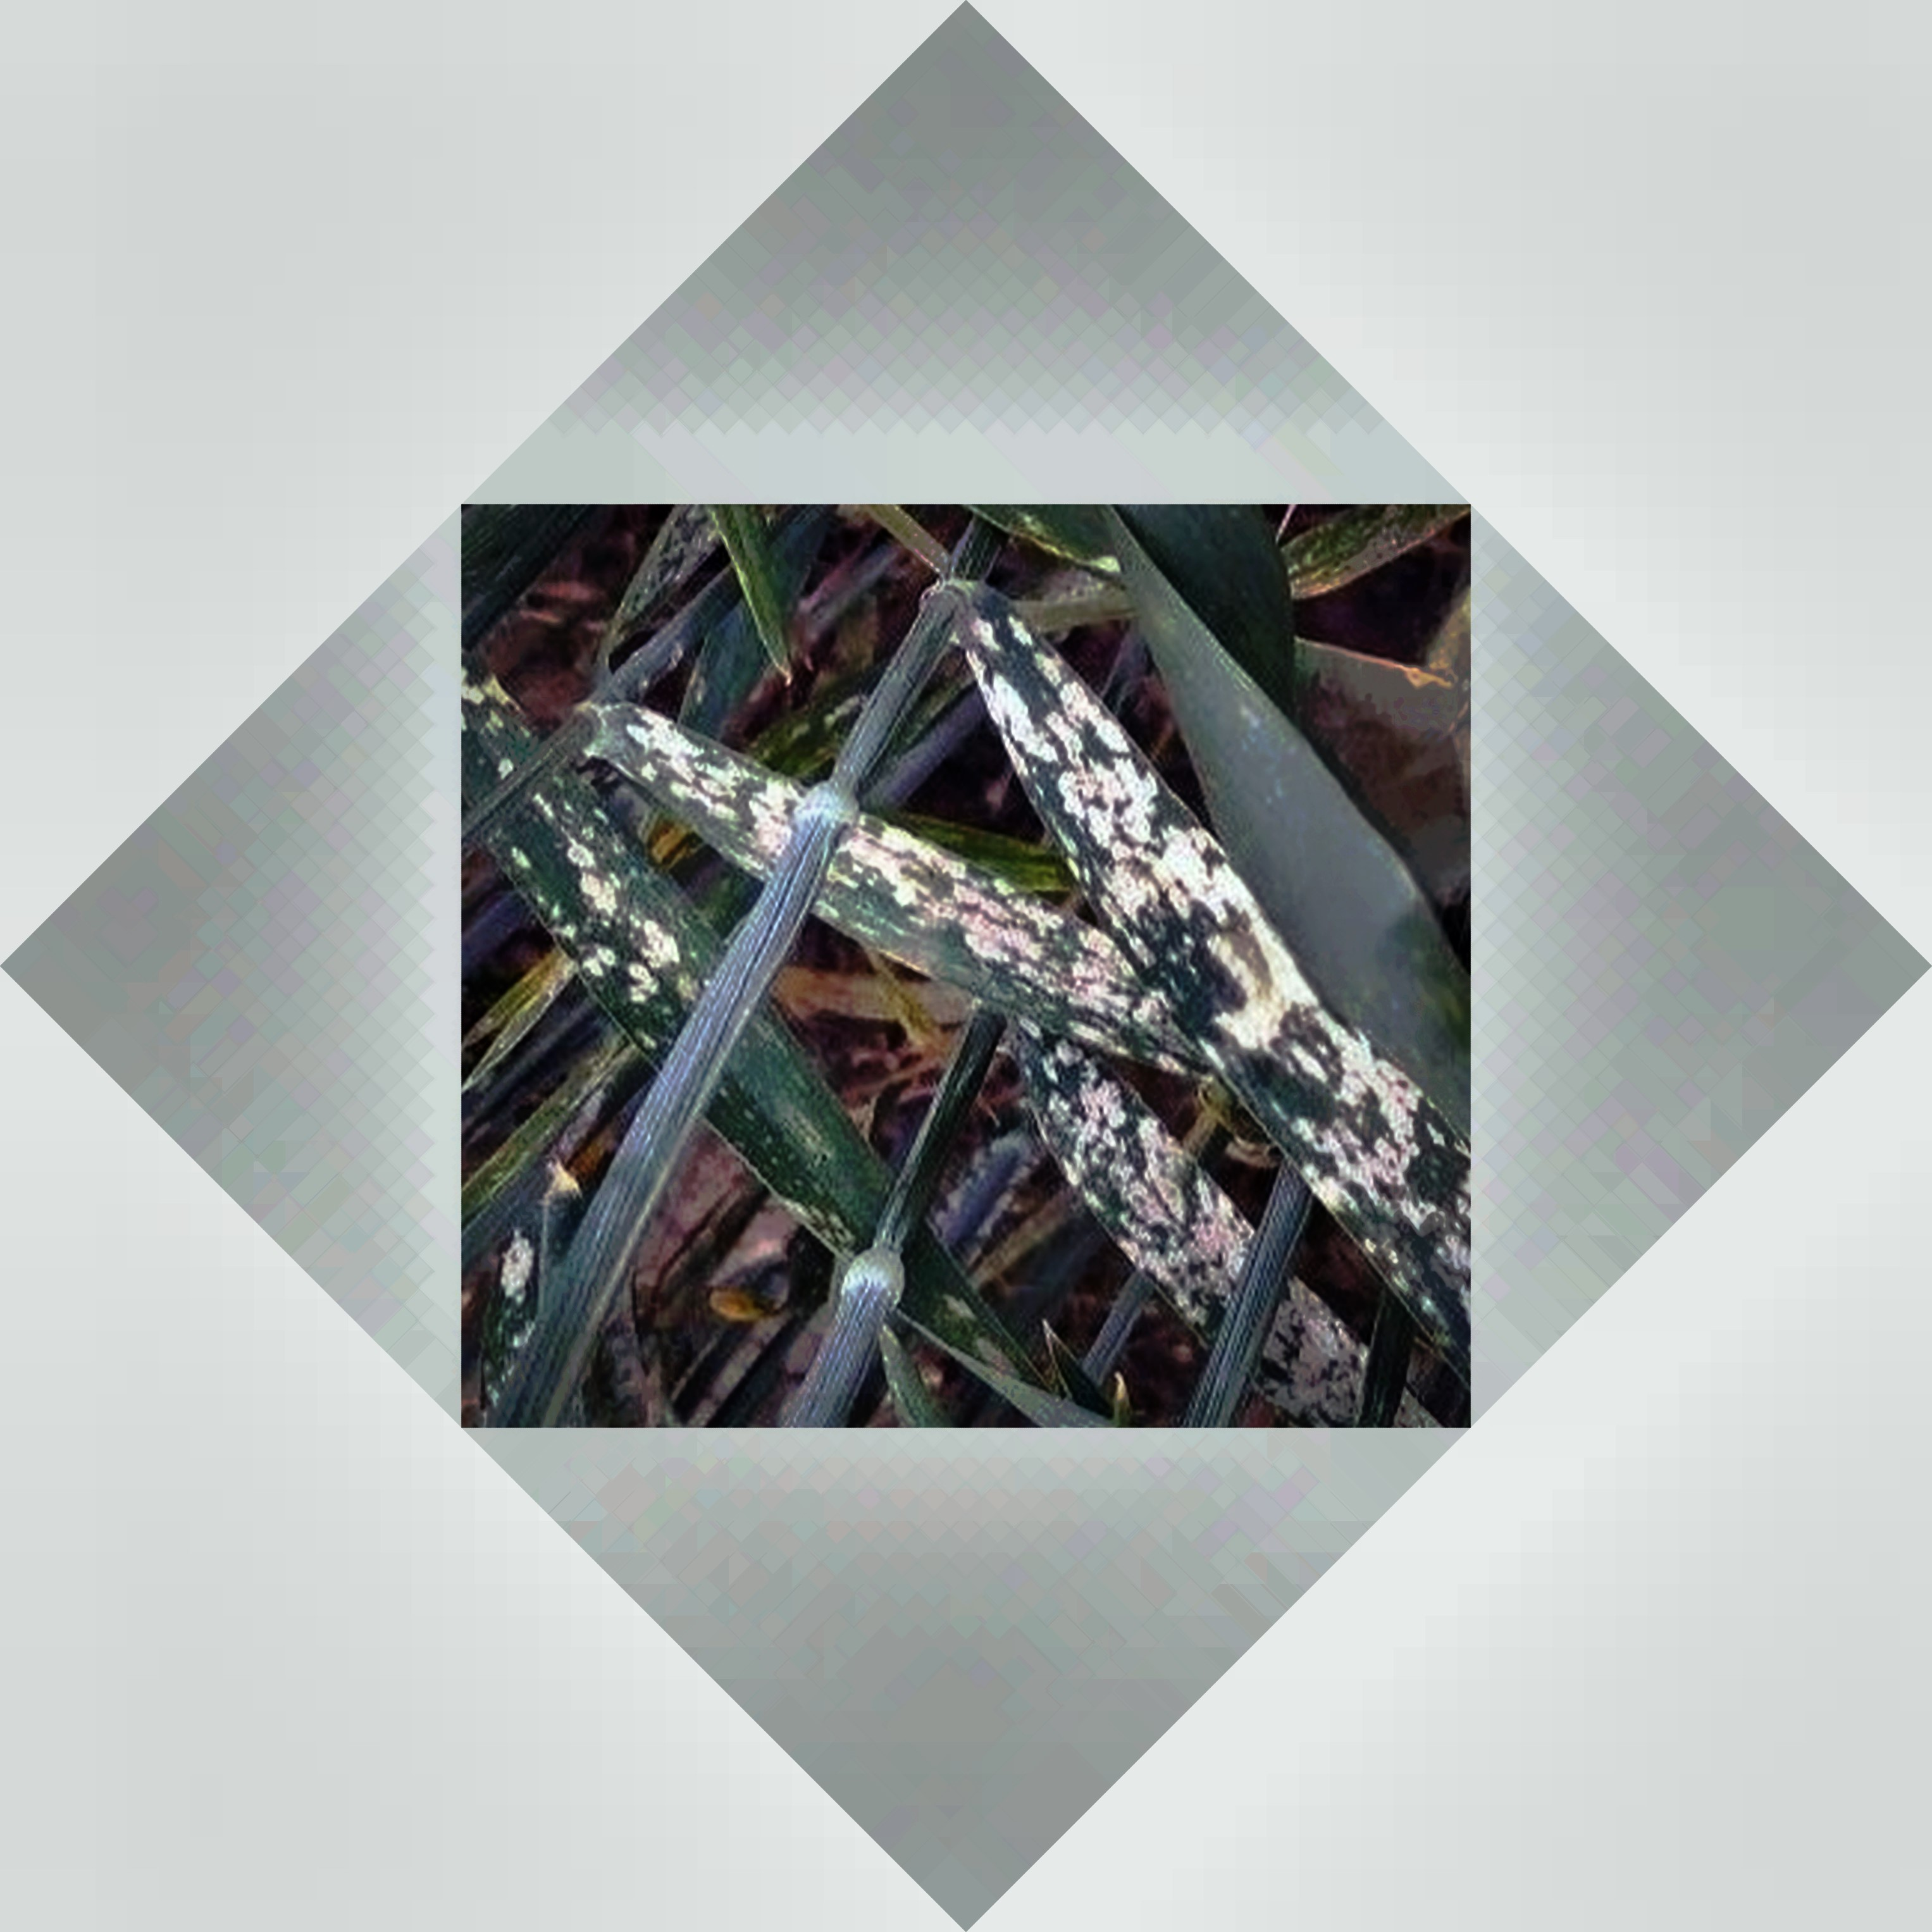Powdery Mildew: (948, 637, 1445, 1384), (467, 683, 796, 1047)
